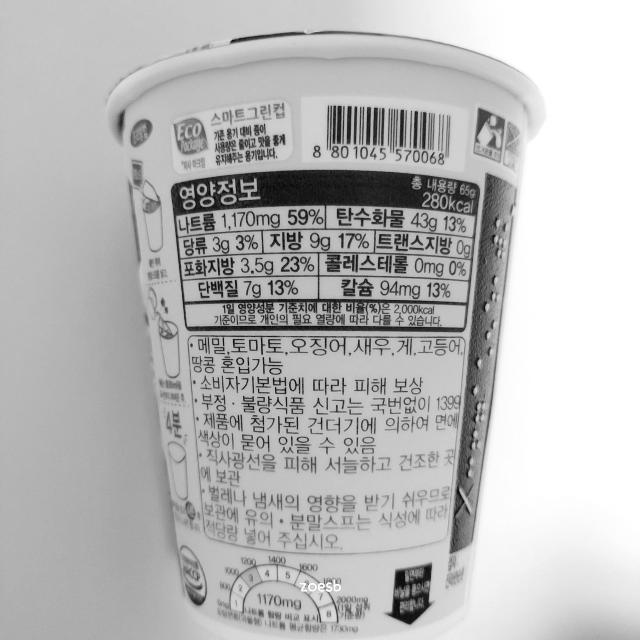Nutrition Label: (163, 164, 488, 337)
